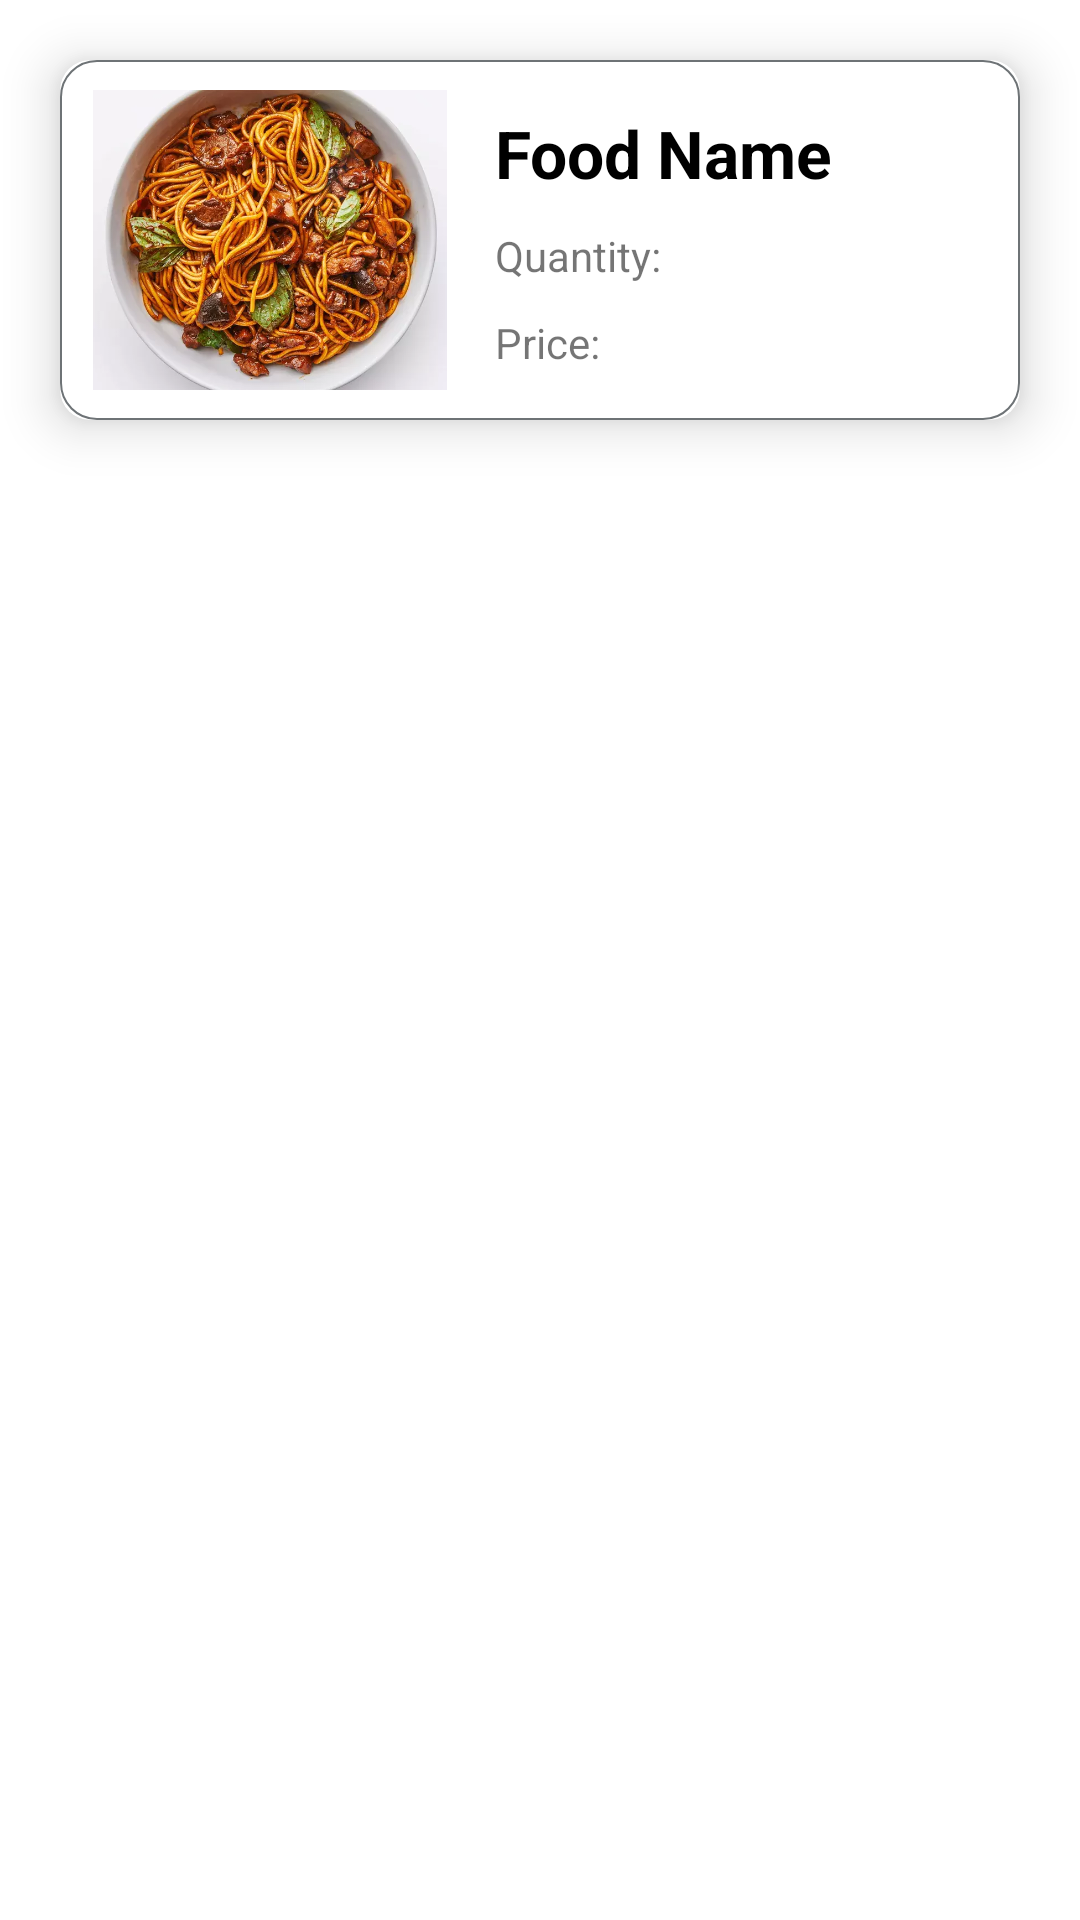

Locate icon controls on the screen. Image size 1080 x 1920, boxes as (left=x1, top=y1, right=x2, bottom=y2).
noodle: (left=97, top=90, right=447, bottom=390)
